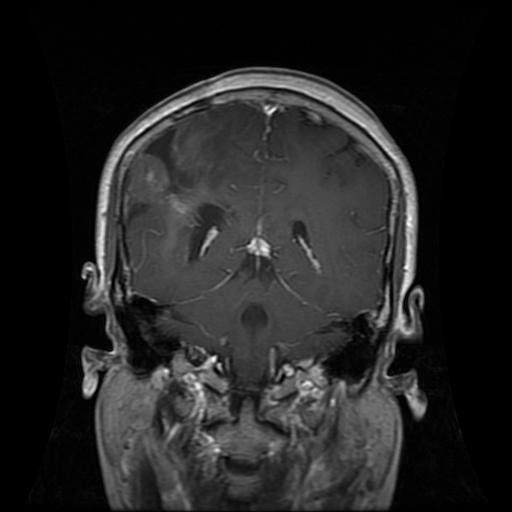glioma: (145, 131, 195, 199)
